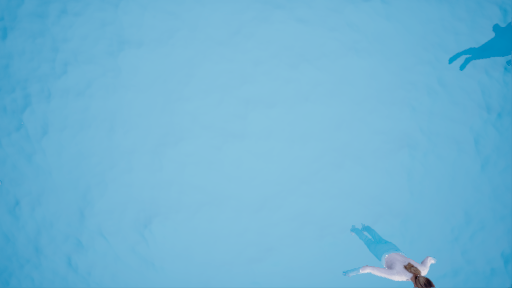person: (341, 222, 440, 287)
